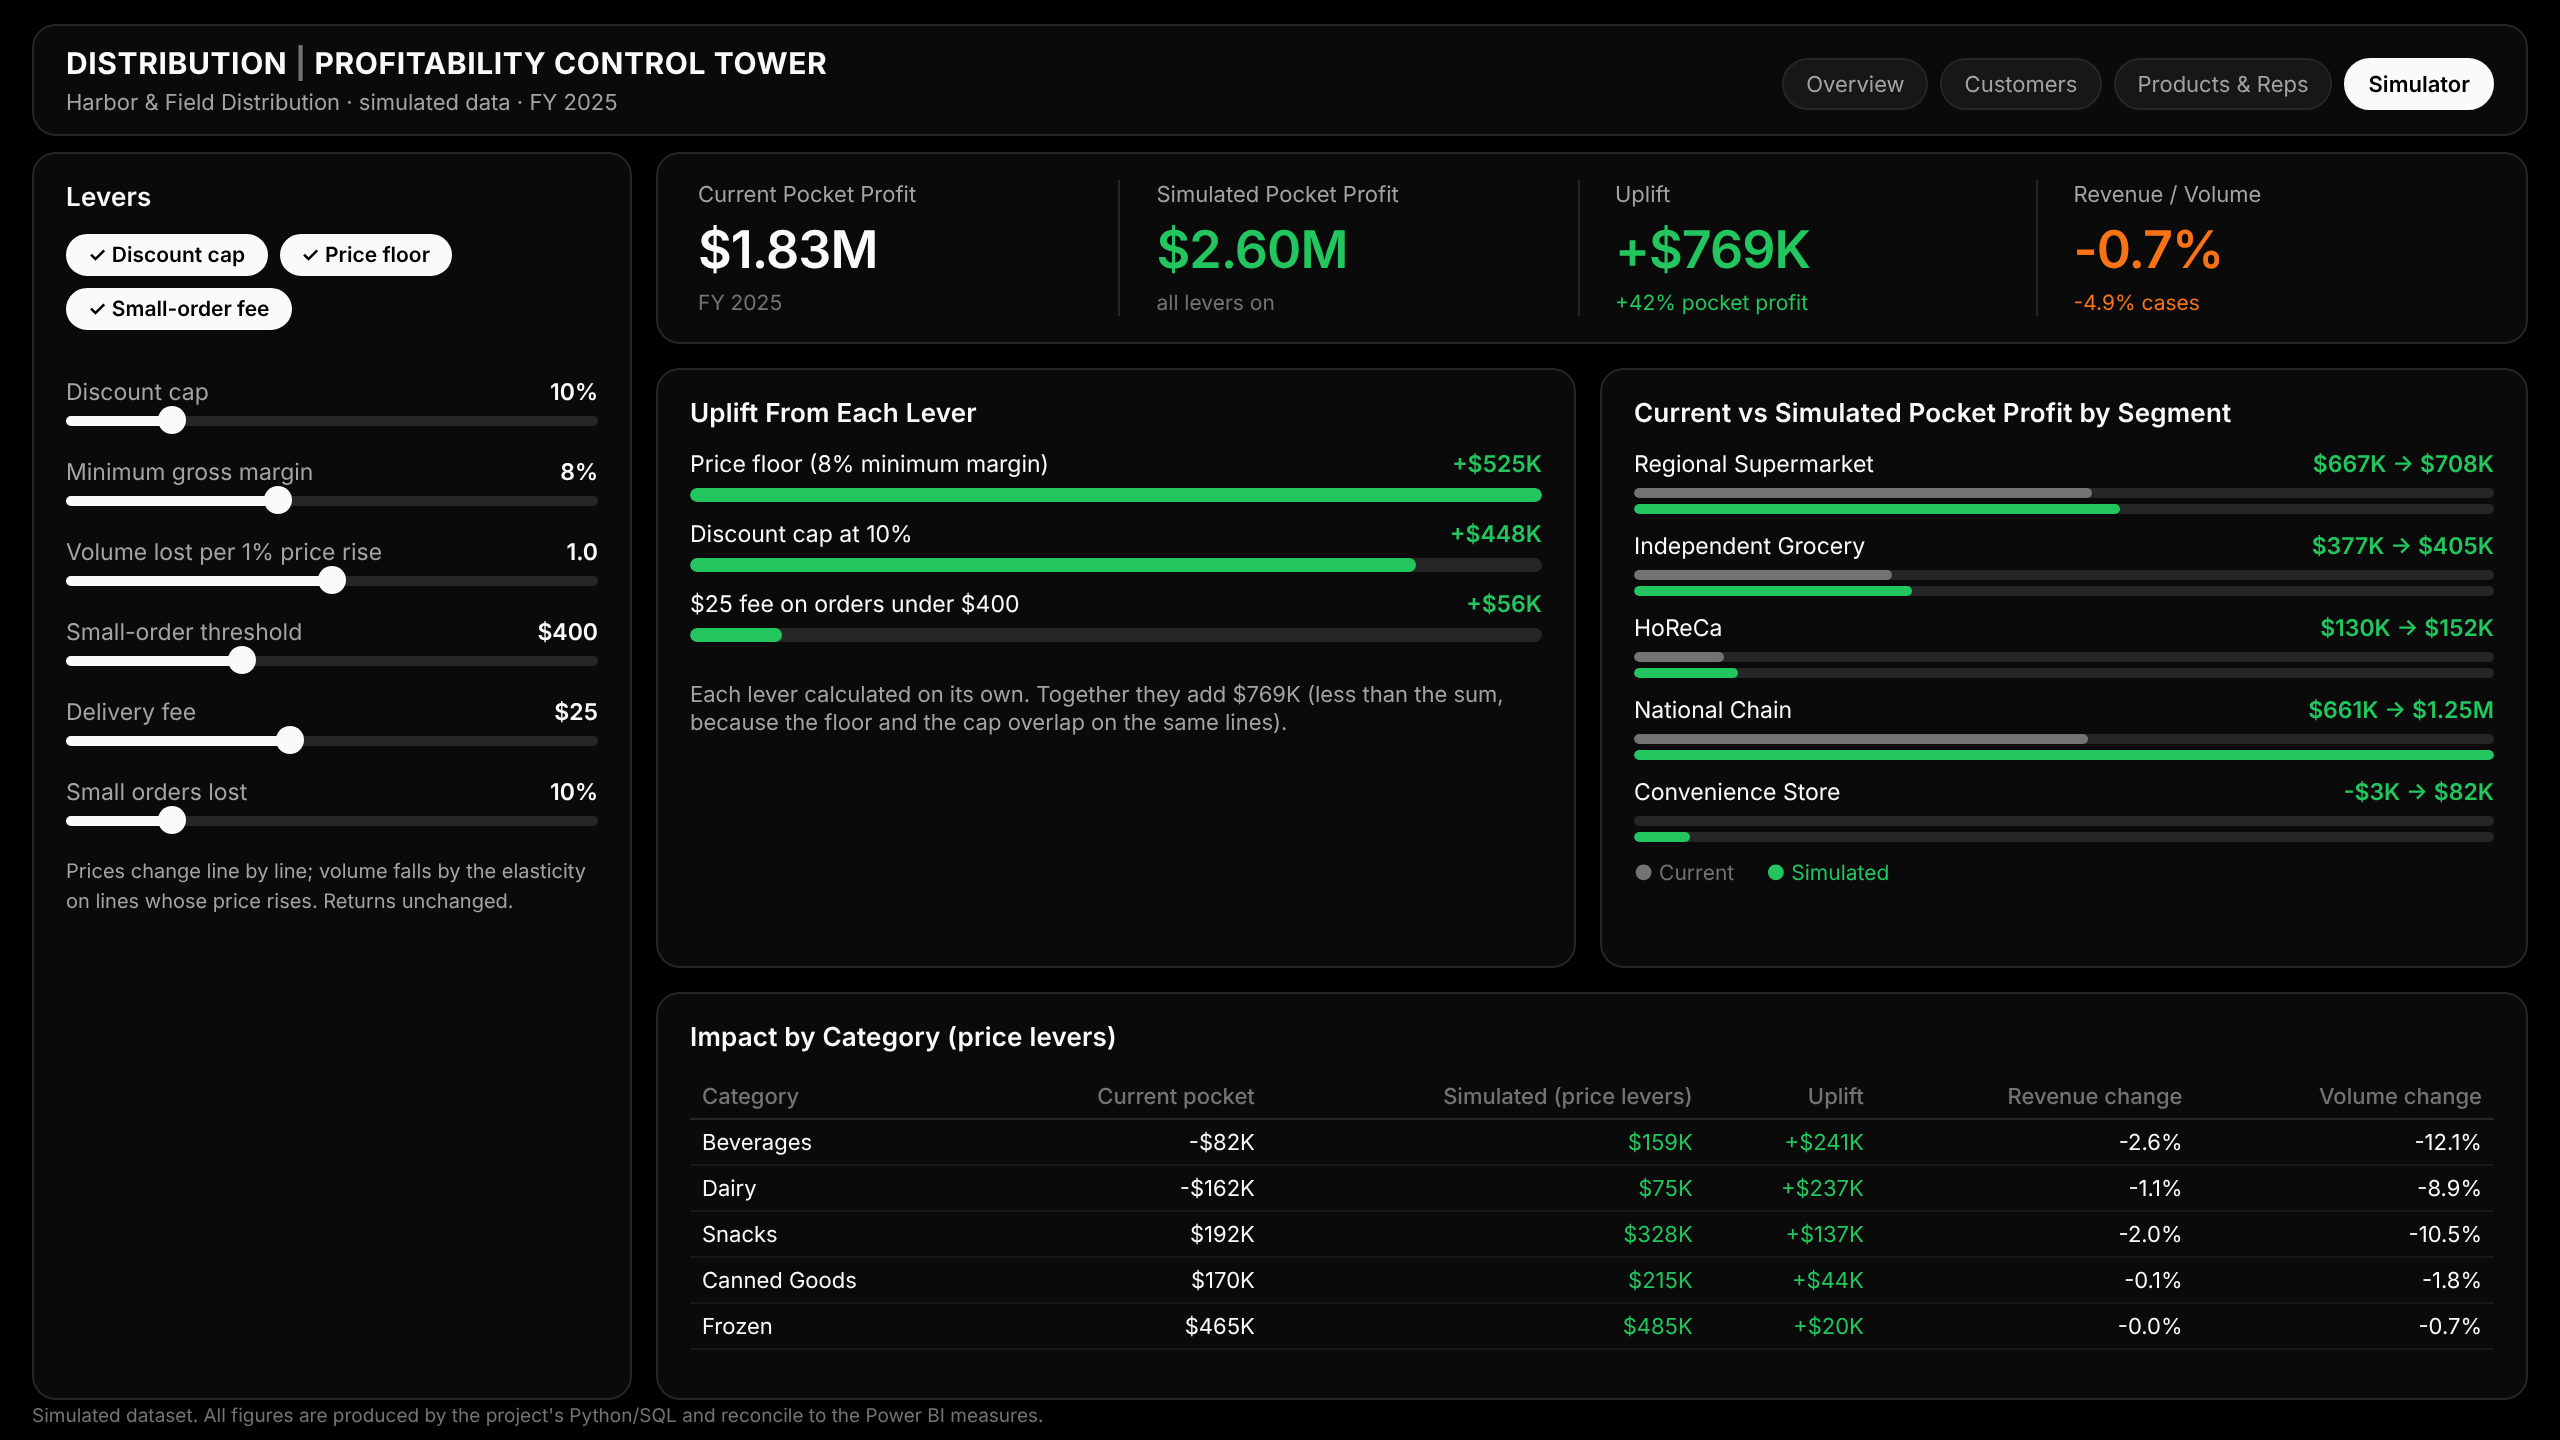

The dashboard page shown, as its layout file describes it:
{"tool":"powerbi","page":{"name":"Simulator","canvas":[1280,720],"ordinal":3},"visuals":[{"type":"shape","box":[15.8,5.7,1248.3,91.8],"z":0,"group":"g1"},{"type":"shape","box":[17.9,106,250.7,595.5],"z":0},{"type":"slicer","fields":{"Values":["Levers.Lever"]},"box":[24,128,226,140],"z":1000},{"type":"group","id":"g1","title":"Group 1","box":[15.8,5.7,1248.3,91.8],"z":2000},{"type":"textbox","box":[27.2,19.8,520.8,30.1],"z":2000,"group":"g1"},{"type":"slicer","fields":{"Values":["Discount Cap.Value"]},"box":[26,268,230,64],"z":2001},{"type":"slicer","fields":{"Values":["Min Gross Margin.Value"]},"box":[26,328,234,58],"z":2002},{"type":"slicer","fields":{"Values":["Elasticity.Value"]},"box":[24,390,236,62],"z":2003},{"type":"slicer","fields":{"Values":["Small Order Threshold.Value"]},"box":[26,452,234,58],"z":2004},{"type":"slicer","fields":{"Values":["Delivery Fee.Value"]},"box":[26,516,234,58],"z":2005},{"type":"slicer","fields":{"Values":["Small Orders Lost.Value"]},"box":[26,582,234,62],"z":2006},{"type":"textbox","box":[16.4,641.8,250.7,59.7],"z":2007},{"type":"shape","box":[279.1,106,985.1,123.9],"z":2008},{"type":"cardVisual","fields":{"Data":["_Measures.Pocket Profit","_Measures.Simulated Pocket Profit","_Measures.Simulator Uplift","_Measures.Sim Revenue Change %"]},"box":[279.1,122.4,985.1,107.5],"z":2009},{"type":"tableEx","title":"Uplift From Each Lever","fields":{"Values":["_Measures.SVG Lever Bar","Lever Chart.Lever","Sum(Lever Chart.Order)"]},"box":[279.3,238.6,459.7,254.6],"z":2010},{"type":"textbox","box":[288.1,448.1,436,40],"z":2011},{"type":"tableEx","title":"Current vs Simulated Pocket Profit by Segment","fields":{"Values":["_Measures.SVG Segment Sim","dim_customer.segment","Sum(fact_sales.pocket_profit)"]},"box":[750.7,238.6,513.6,254.6],"z":2012},{"type":"textbox","box":[754,468,488.8,23],"z":2013},{"type":"tableEx","title":"Impact by Category (price levers)","fields":{"Values":["dim_product.category","_Measures.Pocket Profit","_Measures.Sim Pocket (price only)","_Measures.Price Lever Uplift","_Measures.Sim Revenue Change %","_Measures.Sim Volume Change %"]},"box":[279.3,497.6,984.9,203.7],"z":2014},{"type":"cardVisual","fields":{"Data":["_Measures.Report Subtitle"]},"box":[64.5,57.4,520,24],"z":3000,"group":"g1"},{"type":"slicer","fields":{"Values":["dim_date.date.Variation.Date Hierarchy.Year"]},"box":[885.3,61.7,110.5,31.6],"z":4000,"group":"g1"},{"type":"pageNavigator","box":[587.6,16.3,667.2,37.3],"z":5000,"group":"g1"},{"type":"slicer","fields":{"Values":["dim_customer.region"]},"box":[995.8,61.7,119.1,31.6],"z":6000,"group":"g1"},{"type":"slicer","fields":{"Values":["dim_customer.segment"]},"box":[1114.9,61.7,140,32],"z":7000,"group":"g1"},{"type":"textbox","box":[592.6,71.7,292.6,22.2],"z":8000,"group":"g1"}]}

Visuals, with their boxes in screenshot pixels (x1, y1, x2, y2), scaled from the page's 1280x720 canvas onto the 2560x1440 screenshot:
shape: BBox(32, 11, 2528, 195)
shape: BBox(36, 212, 537, 1403)
slicer - Levers.Lever: BBox(48, 256, 500, 536)
"Group 1" group: BBox(32, 11, 2528, 195)
textbox: BBox(54, 40, 1096, 100)
slicer - Discount Cap.Value: BBox(52, 536, 512, 664)
slicer - Min Gross Margin.Value: BBox(52, 656, 520, 772)
slicer - Elasticity.Value: BBox(48, 780, 520, 904)
slicer - Small Order Threshold.Value: BBox(52, 904, 520, 1020)
slicer - Delivery Fee.Value: BBox(52, 1032, 520, 1148)
slicer - Small Orders Lost.Value: BBox(52, 1164, 520, 1288)
textbox: BBox(33, 1284, 534, 1403)
shape: BBox(558, 212, 2528, 460)
cardVisual - _Measures.Pocket Profit x _Measures.Simulated Pocket Profit: BBox(558, 245, 2528, 460)
"Uplift From Each Lever" tableEx: BBox(559, 477, 1478, 986)
textbox: BBox(576, 896, 1448, 976)
"Current vs Simulated Pocket Profit by Segment" tableEx: BBox(1501, 477, 2529, 986)
textbox: BBox(1508, 936, 2486, 982)
"Impact by Category (price levers)" tableEx: BBox(559, 995, 2528, 1403)
cardVisual - _Measures.Report Subtitle: BBox(129, 115, 1169, 163)
slicer - dim_date.date.Variation.Date Hierarchy.Year: BBox(1771, 123, 1992, 187)
pageNavigator: BBox(1175, 33, 2510, 107)
slicer - dim_customer.region: BBox(1992, 123, 2230, 187)
slicer - dim_customer.segment: BBox(2230, 123, 2510, 187)
textbox: BBox(1185, 143, 1770, 188)
